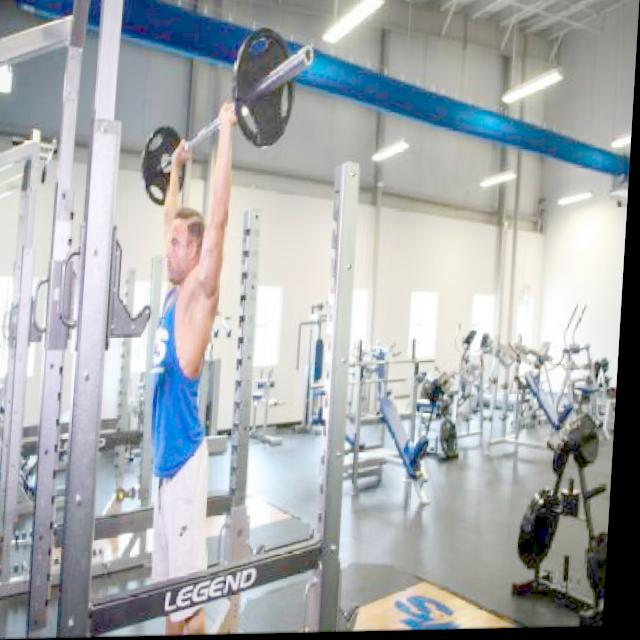barbell: (228, 25, 320, 154)
